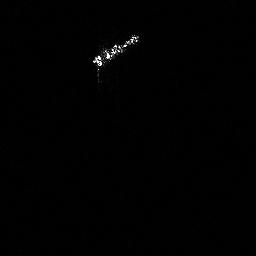ship: (88, 29, 144, 73)
